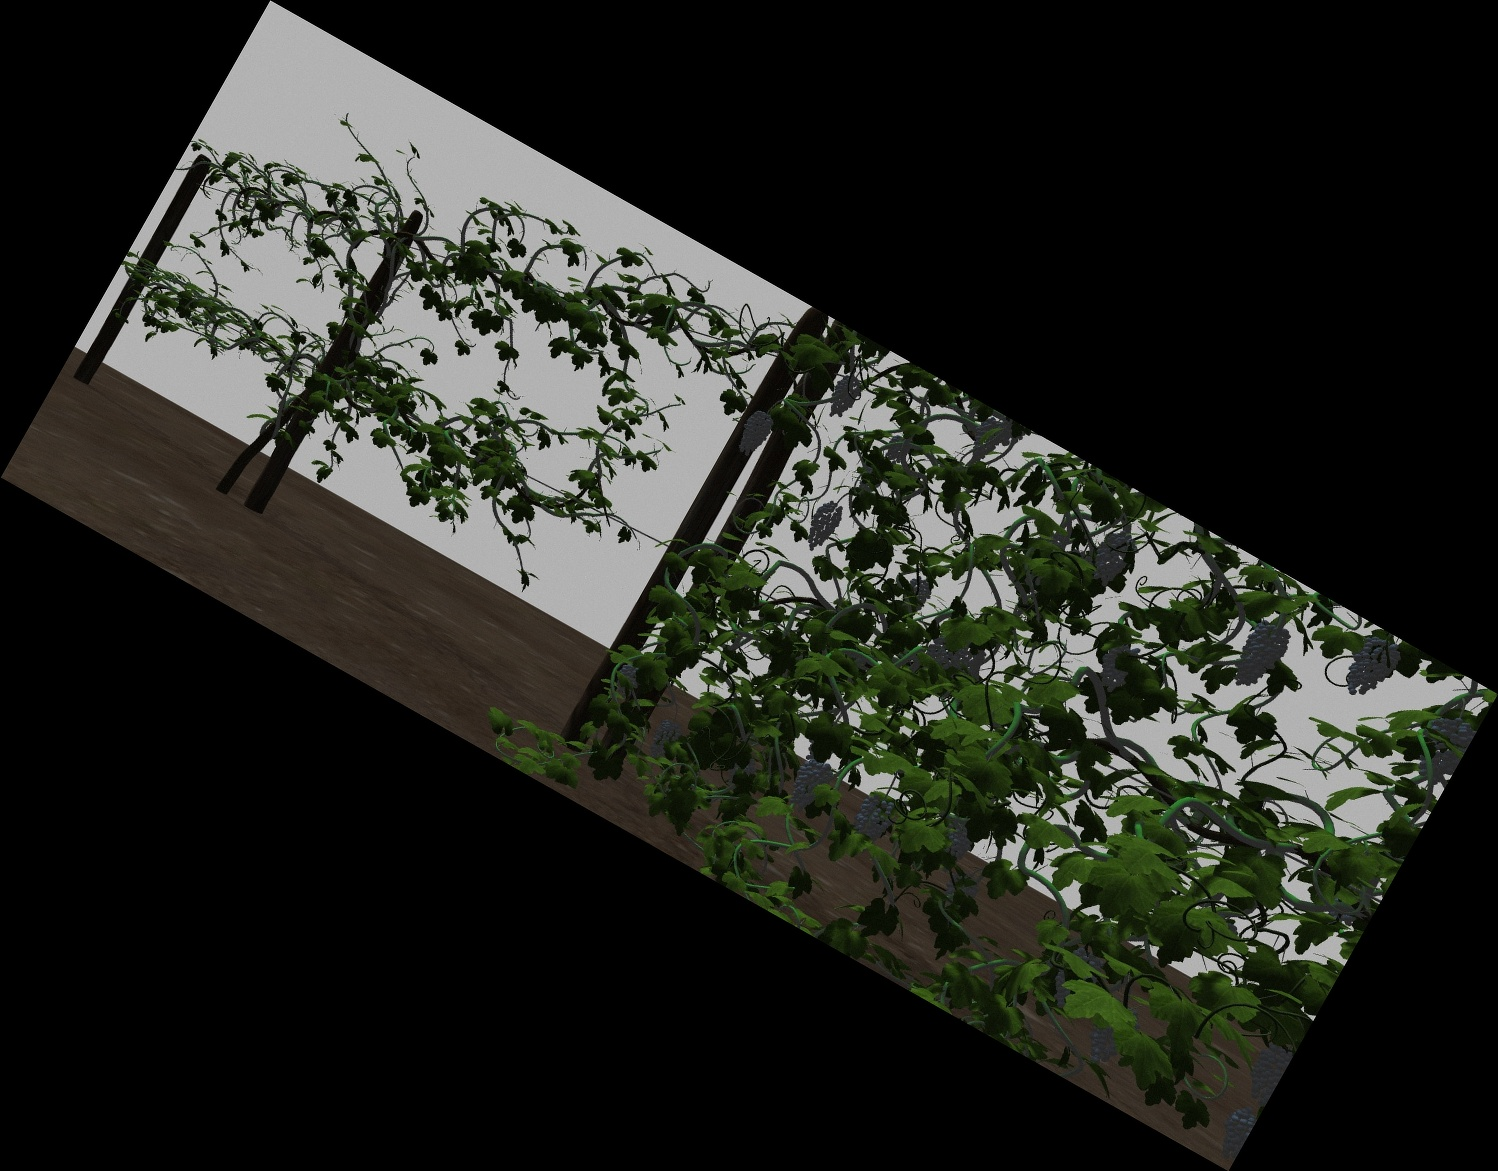grape: (1352, 636, 1392, 698), (1241, 623, 1278, 688), (1424, 717, 1462, 778), (794, 760, 829, 813), (1096, 533, 1126, 585), (1249, 1046, 1279, 1098), (858, 794, 892, 839), (809, 499, 838, 550), (1221, 1107, 1249, 1154), (974, 420, 1006, 460), (1102, 643, 1130, 688), (740, 411, 767, 456), (1089, 1029, 1117, 1065), (929, 641, 965, 669), (830, 377, 855, 418), (944, 824, 973, 855), (654, 721, 676, 756), (615, 665, 637, 699), (909, 578, 933, 601)
